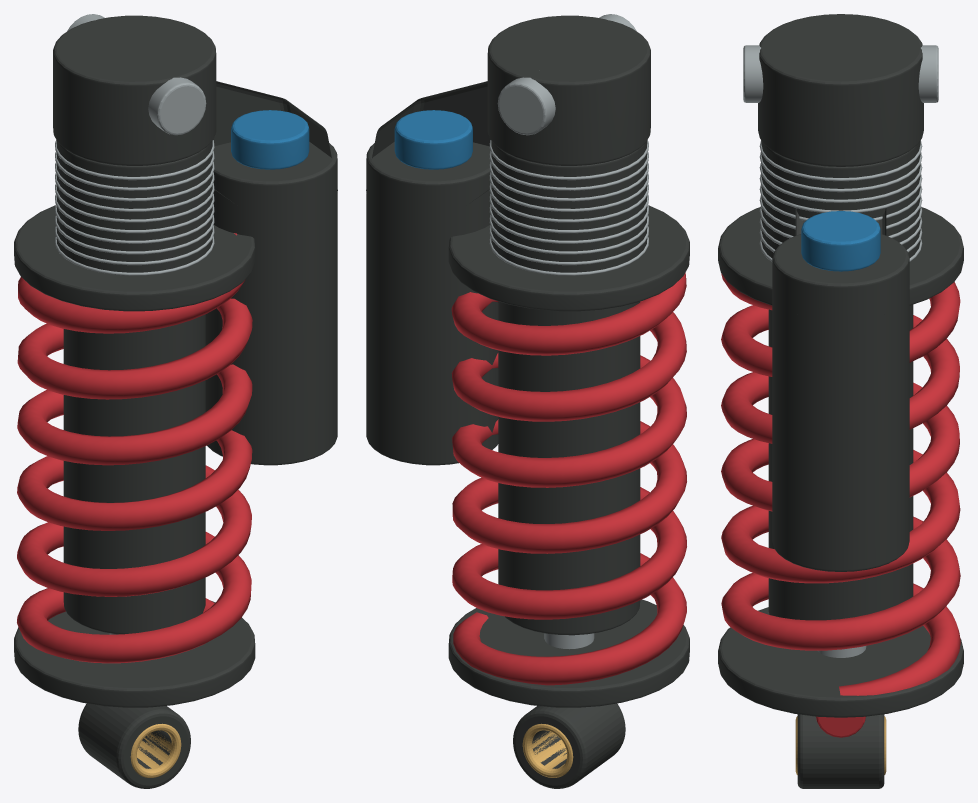
Rendered from rockshox-vivid-coil-ultimate-d1--c936c855.glb.
3 views of the same model, side by side, from view 1: azimuth 30°, elevation 25°; view 2: azimuth 150°, elevation 25°; view 3: azimuth 270°, elevation 25° (orthographic).
Visible parts, largest first — view 1: rockshox-vivid-coil-ultimate-d1--c936c855__link, rockshox-vivid-coil-ultimate-d1--c936c855__rebound, rockshox-vivid-coil-ultimate-d1--c936c855__bolts, rockshox-vivid-coil-ultimate-d1--c936c855__adjuster, rockshox-vivid-coil-ultimate-d1--c936c855__stanchions; view 2: rockshox-vivid-coil-ultimate-d1--c936c855__link, rockshox-vivid-coil-ultimate-d1--c936c855__rebound, rockshox-vivid-coil-ultimate-d1--c936c855__bolts, rockshox-vivid-coil-ultimate-d1--c936c855__adjuster, rockshox-vivid-coil-ultimate-d1--c936c855__stanchions; view 3: rockshox-vivid-coil-ultimate-d1--c936c855__link, rockshox-vivid-coil-ultimate-d1--c936c855__rebound, rockshox-vivid-coil-ultimate-d1--c936c855__bolts, rockshox-vivid-coil-ultimate-d1--c936c855__adjuster.
Boxes of the visible parts, x1=… form: rockshox-vivid-coil-ultimate-d1--c936c855__link: x1=14, y1=15, x2=337, y2=788; rockshox-vivid-coil-ultimate-d1--c936c855__rebound: x1=17, y1=233, x2=252, y2=663; rockshox-vivid-coil-ultimate-d1--c936c855__bolts: x1=55, y1=14, x2=214, y2=634; rockshox-vivid-coil-ultimate-d1--c936c855__adjuster: x1=231, y1=110, x2=309, y2=169; rockshox-vivid-coil-ultimate-d1--c936c855__stanchions: x1=130, y1=723, x2=181, y2=777; rockshox-vivid-coil-ultimate-d1--c936c855__link: x1=366, y1=15, x2=689, y2=788; rockshox-vivid-coil-ultimate-d1--c936c855__rebound: x1=451, y1=272, x2=686, y2=685; rockshox-vivid-coil-ultimate-d1--c936c855__bolts: x1=489, y1=14, x2=648, y2=649; rockshox-vivid-coil-ultimate-d1--c936c855__adjuster: x1=394, y1=110, x2=472, y2=169; rockshox-vivid-coil-ultimate-d1--c936c855__stanchions: x1=522, y1=723, x2=573, y2=777; rockshox-vivid-coil-ultimate-d1--c936c855__link: x1=718, y1=14, x2=963, y2=788; rockshox-vivid-coil-ultimate-d1--c936c855__rebound: x1=721, y1=273, x2=960, y2=737; rockshox-vivid-coil-ultimate-d1--c936c855__bolts: x1=743, y1=45, x2=938, y2=657; rockshox-vivid-coil-ultimate-d1--c936c855__adjuster: x1=801, y1=211, x2=880, y2=271.
Bounding box in the file's own units: 0.097 × 0.225 × 0.068.
